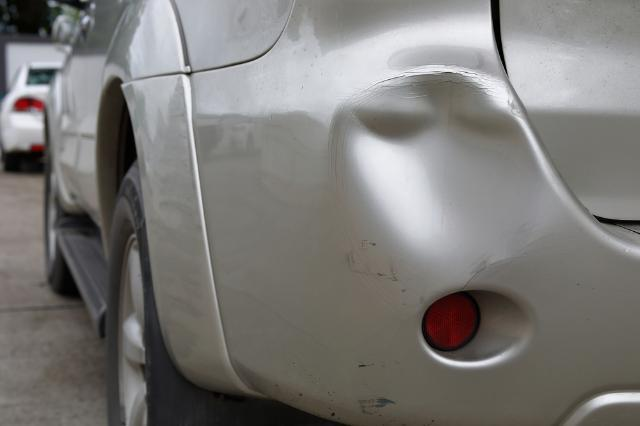dent: (344, 69, 539, 279)
scratch: (352, 359, 397, 423)
